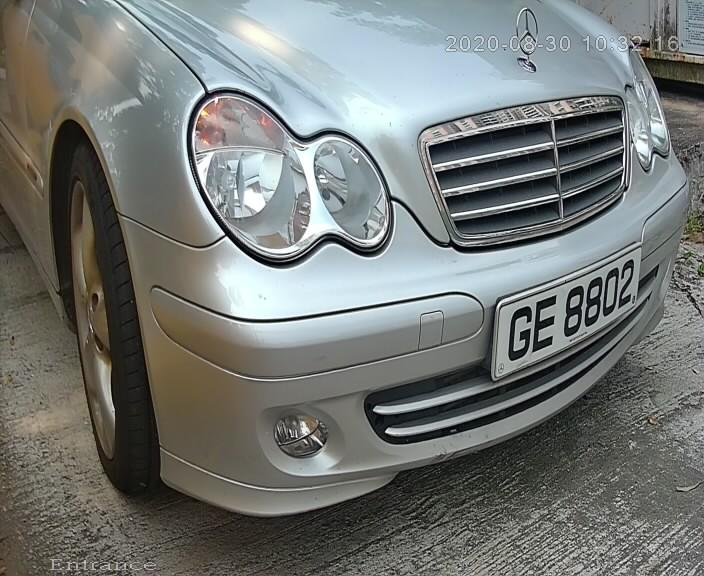License Plate: (485, 250, 645, 384)
